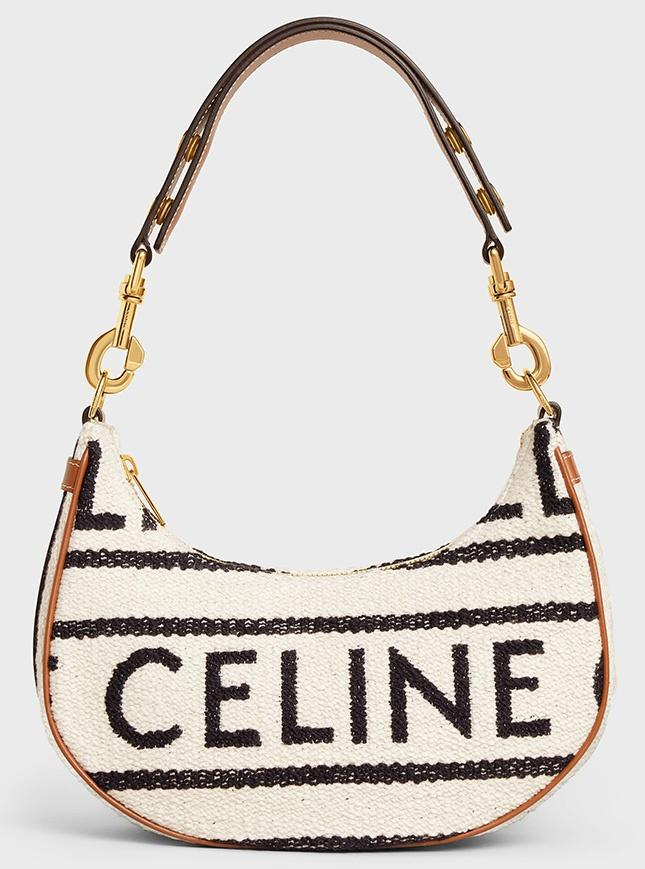CELINE: (105, 637, 553, 749)
